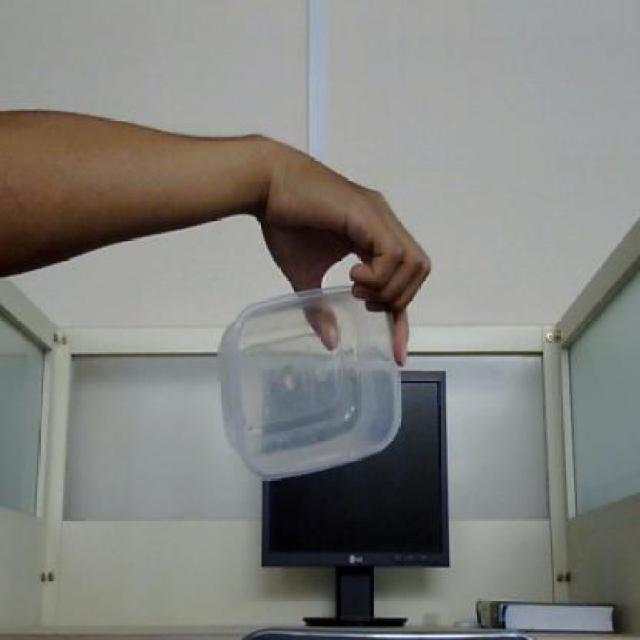Plastic: (217, 278, 408, 484)
